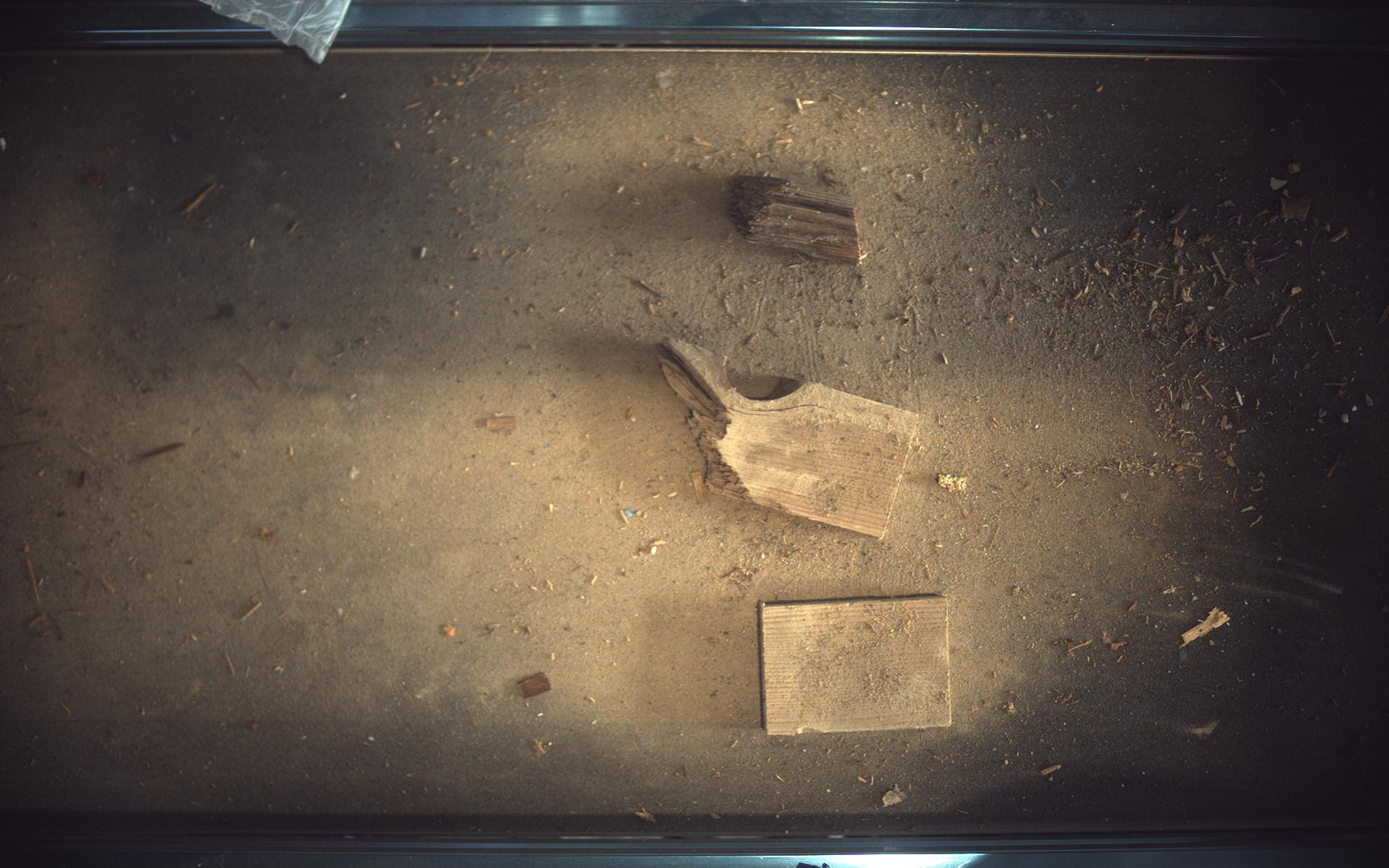wood: (660, 338, 919, 538), (760, 595, 953, 736), (731, 175, 867, 263)
